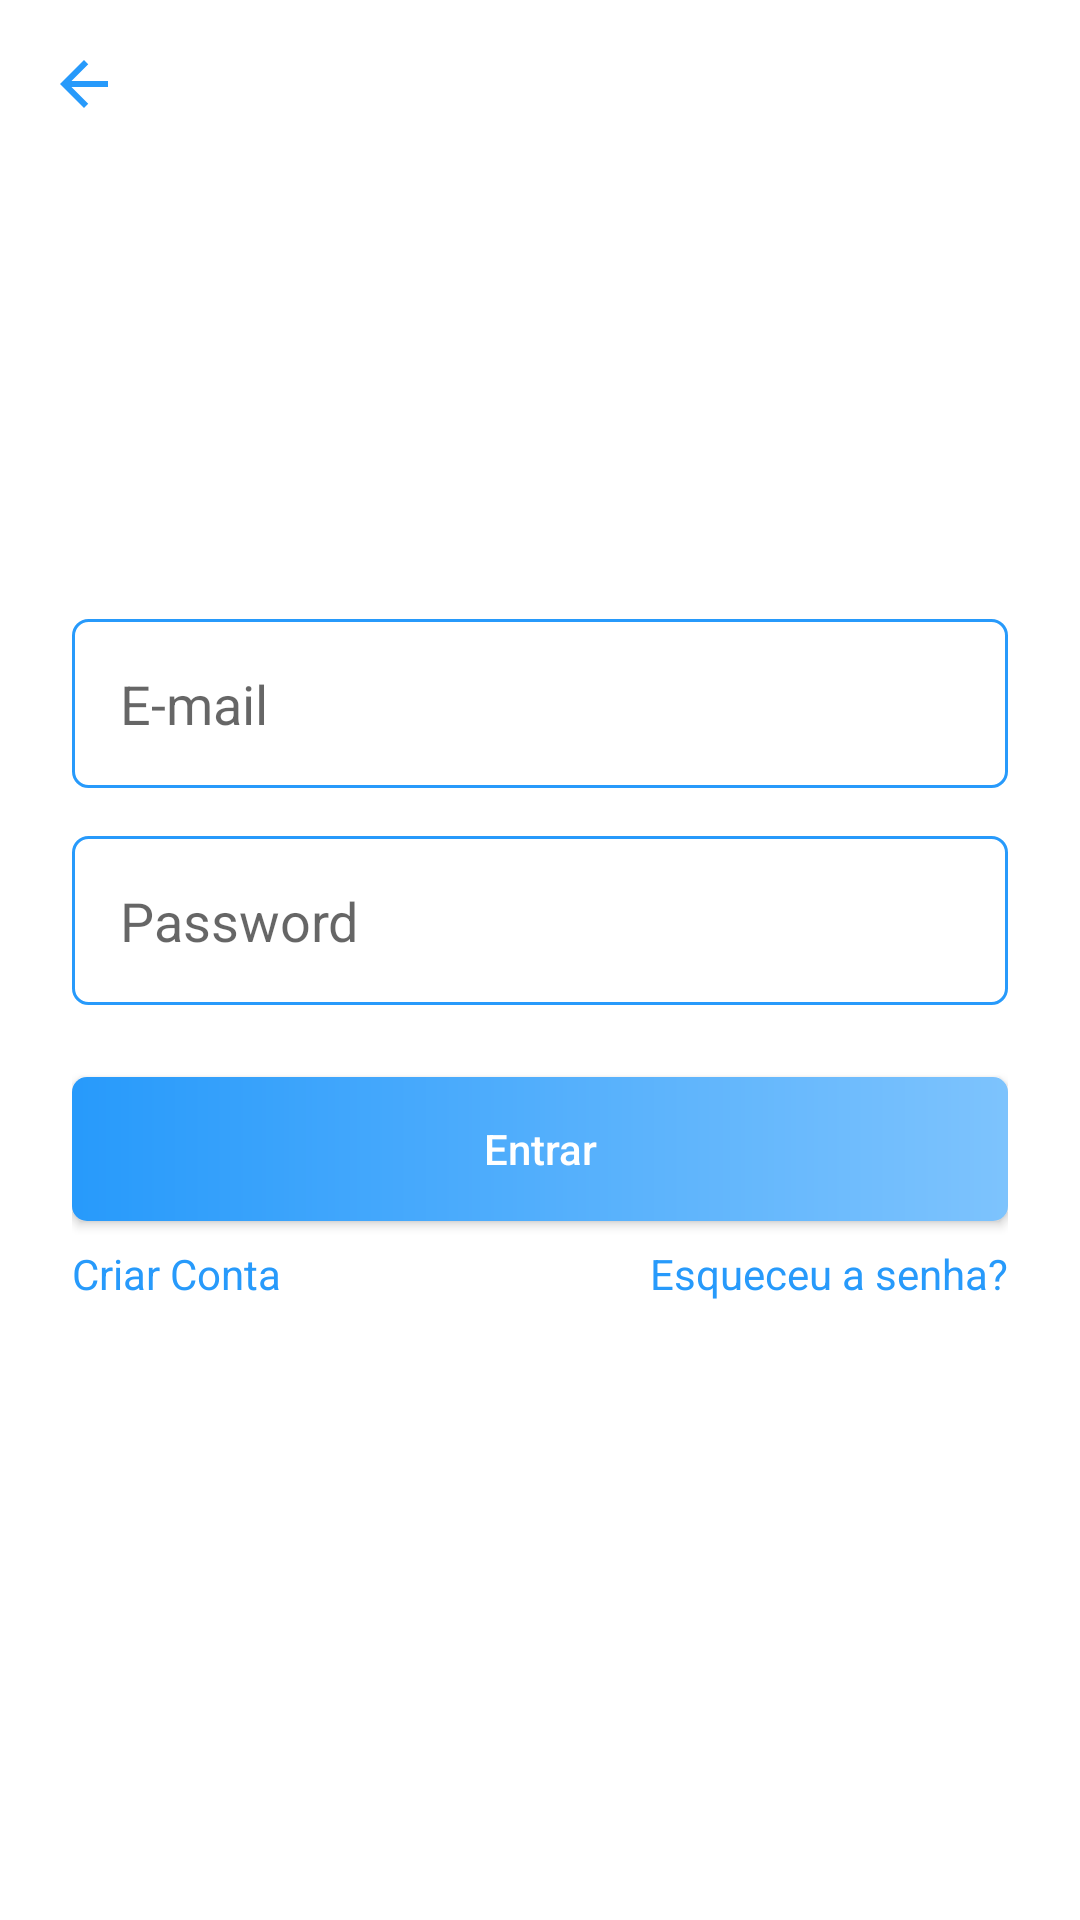

Icon bounding boxes for this 1080×1920 phone screenshot, format bbox=(x1, y1, x2, y2):
getback: bbox=(60, 60, 108, 108)
